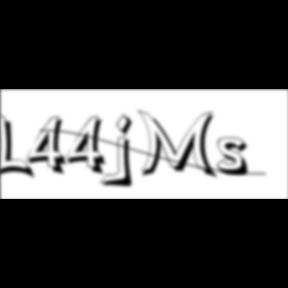4: (26, 115, 74, 179), (66, 115, 112, 179)
L: (1, 110, 37, 182)
M: (137, 108, 221, 181)
j: (114, 113, 140, 191)
s: (216, 137, 256, 179)
